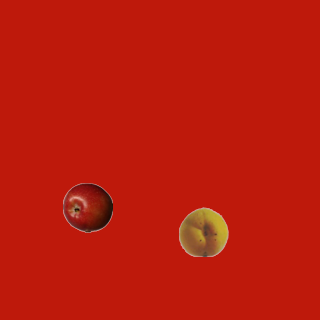Apple Braeburn: (62, 182, 112, 232)
Peach 2: (178, 206, 228, 256)
